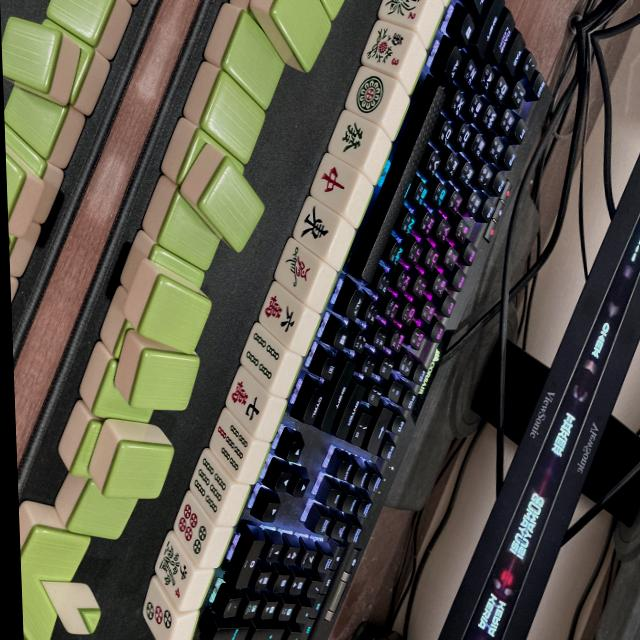east: (289, 196, 346, 260)
f2: (378, 0, 430, 27)
f3: (360, 22, 413, 74)
f4: (150, 532, 199, 608)
fa: (325, 110, 381, 172)
m6: (256, 282, 312, 347)
m7: (223, 368, 275, 432)
s1: (271, 239, 325, 304)
s4: (237, 324, 291, 388)
s6: (184, 454, 236, 518)
s7: (204, 413, 256, 478)
t1: (342, 68, 398, 128)
t3: (140, 580, 183, 640)
t6: (169, 496, 221, 564)
zhong: (306, 154, 361, 216)
